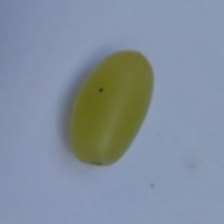grapes: (54, 0, 214, 197)
